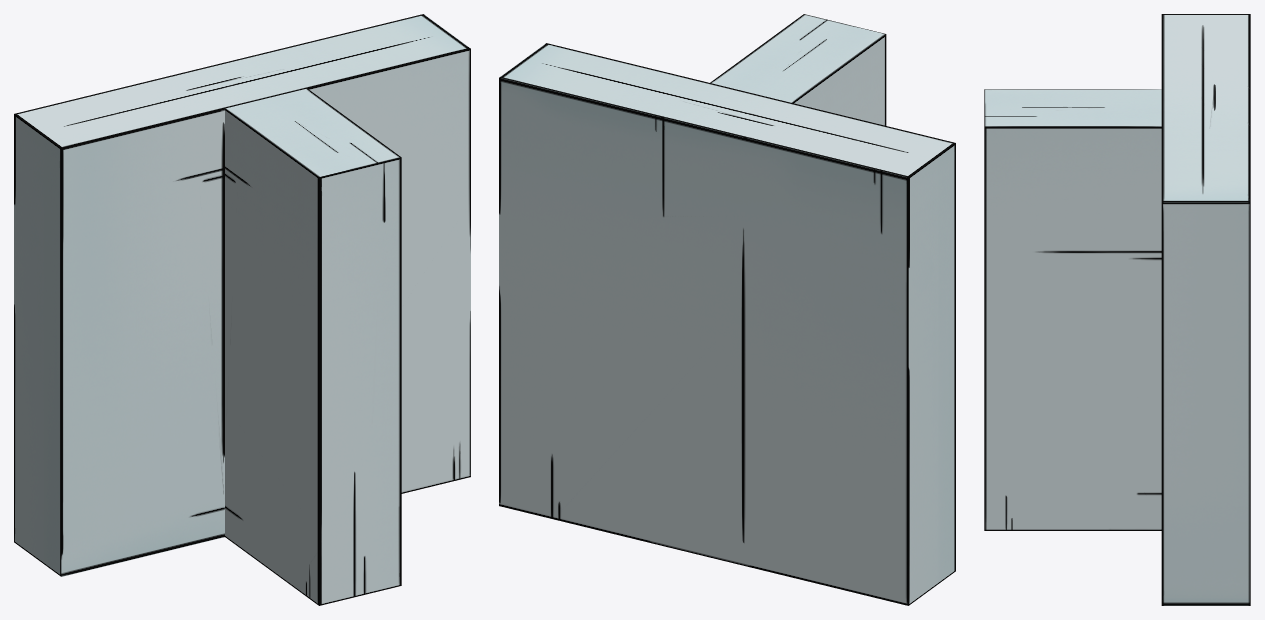
Rendered from wonderwall.fbx.
3 views of the same model, side by side, from view 1: azimuth 30°, elevation 25°; view 2: azimuth 150°, elevation 25°; view 3: azimuth 270°, elevation 25° (orthographic). The views are drawn at different scales.
Parts seen in each view (by area): view 1: wonderwall; view 2: wonderwall; view 3: wonderwall.
Boxes of the visible parts, <box> form: wonderwall: <box>14,14,470,605</box>; wonderwall: <box>499,14,955,605</box>; wonderwall: <box>984,14,1250,605</box>.
Bounding box in the file's own units: 2 × 2 × 1.2.
1 material, 1 textured.
